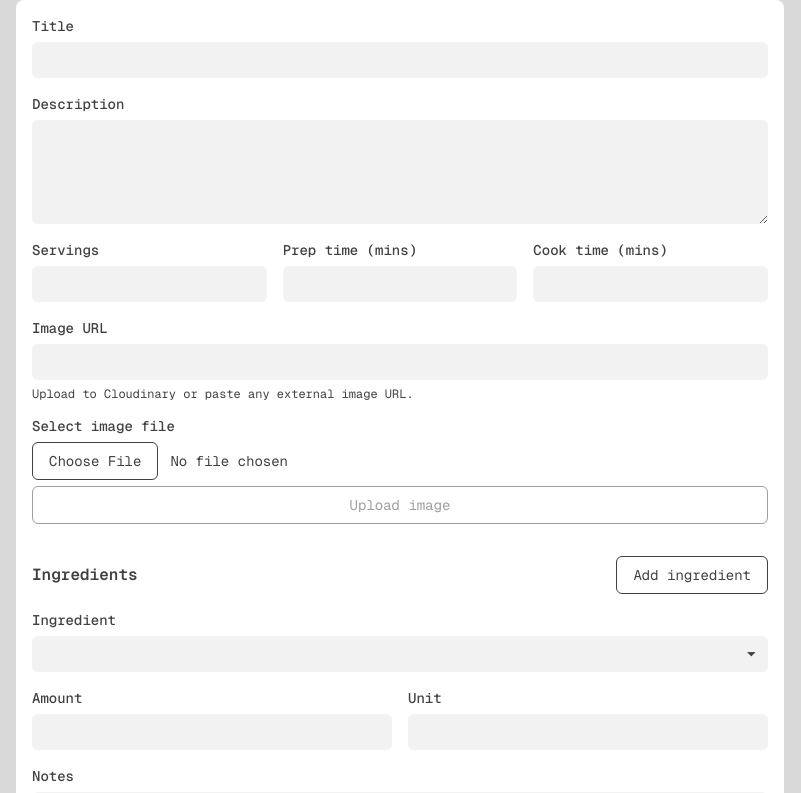
RecipeForm › shows ingredient suggestions and fills the default unit on selection
Focus the dropdown labelled "Ingredient" at (400, 654), box 32,636 -> 768,672
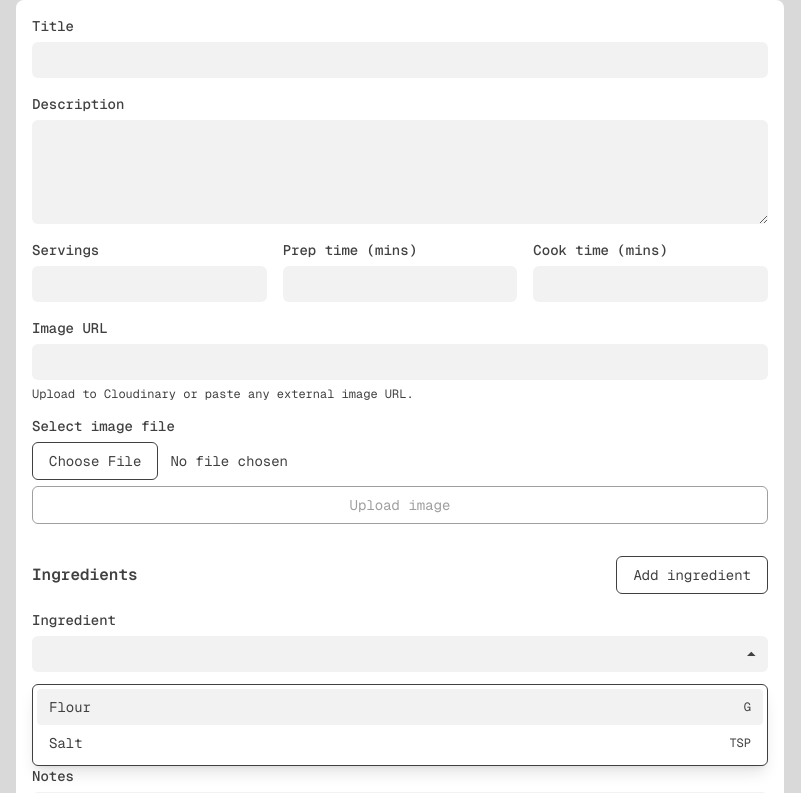
Now the list is shown, box 32,684 -> 768,766
Now the option "Flour g" is shown, box 37,689 -> 763,725
Now the option "Salt tsp" is shown, box 37,725 -> 763,761
Type "flo" into the dropdown labelled "Ingredient" at (400, 654), box 32,636 -> 768,672
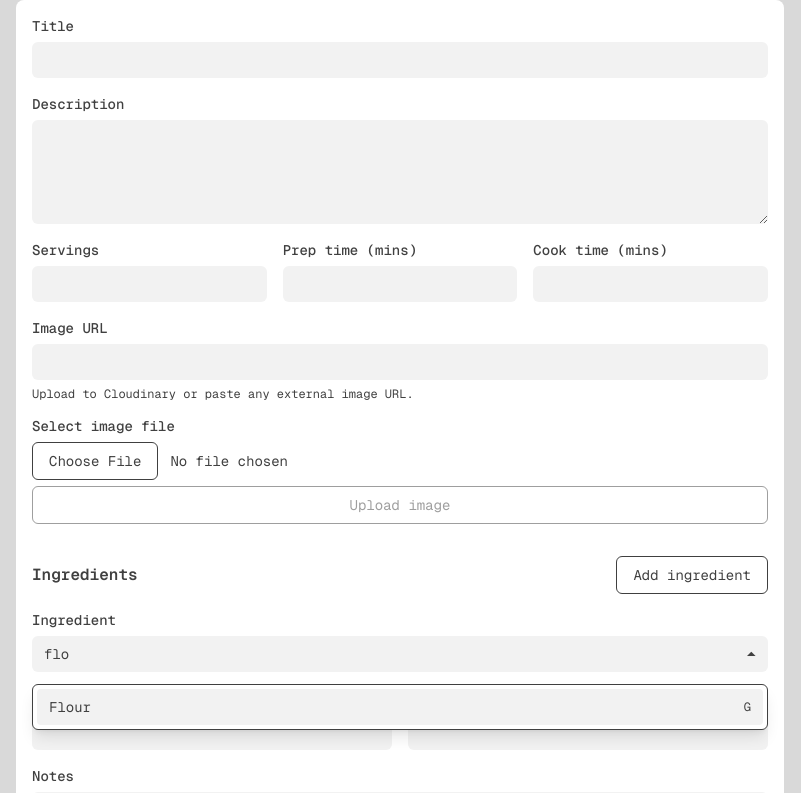
Now the option "Flour g" is shown
Now the option "Salt" is gone
Click the option "Flour g" at (70, 707), box 37,689 -> 763,725
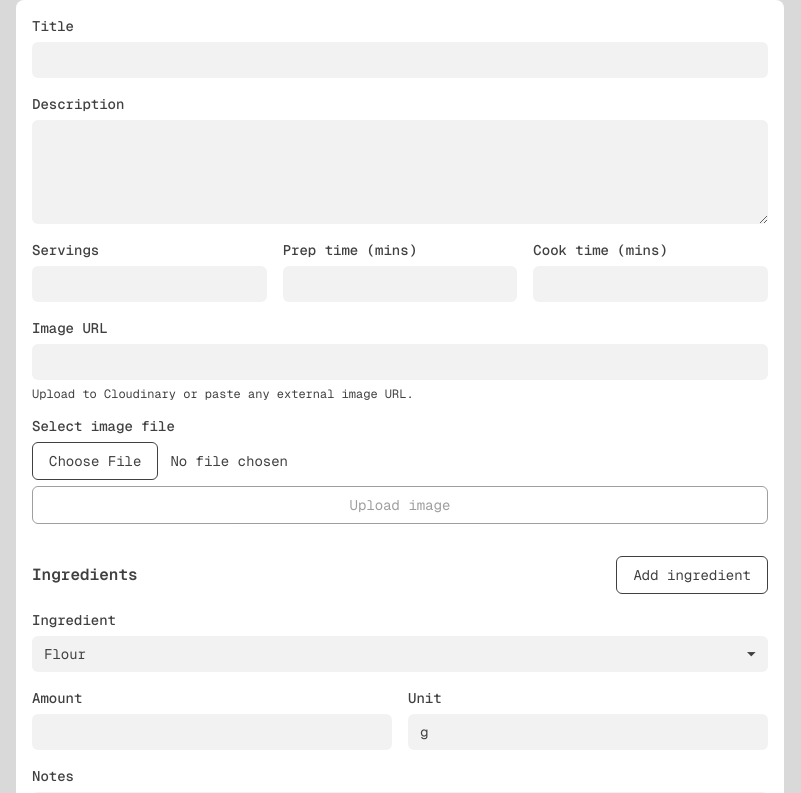
Now the dropdown labelled "Ingredient" holds "Flour", box 32,636 -> 768,672
Now the field labelled "Unit" holds "g", box 408,714 -> 768,750
